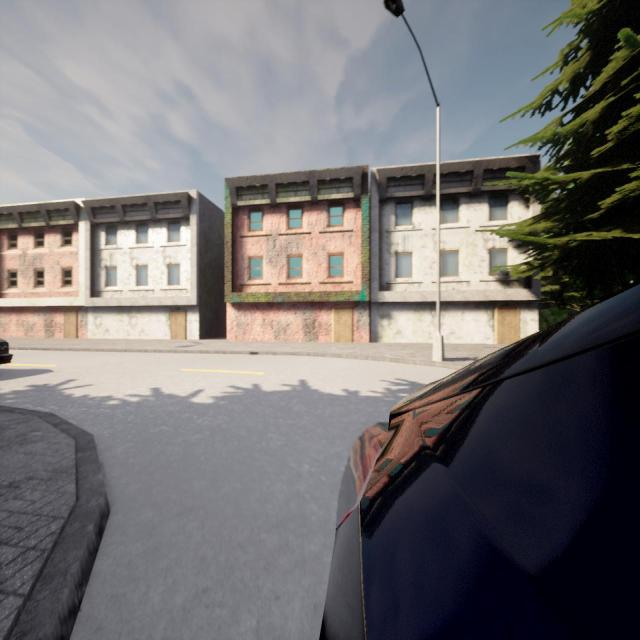Vehicle: (322, 287, 640, 640), (0, 334, 13, 367)
